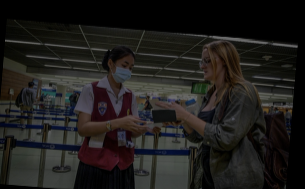with_mask: (110, 59, 133, 84)
without_mask: (199, 52, 222, 81)
